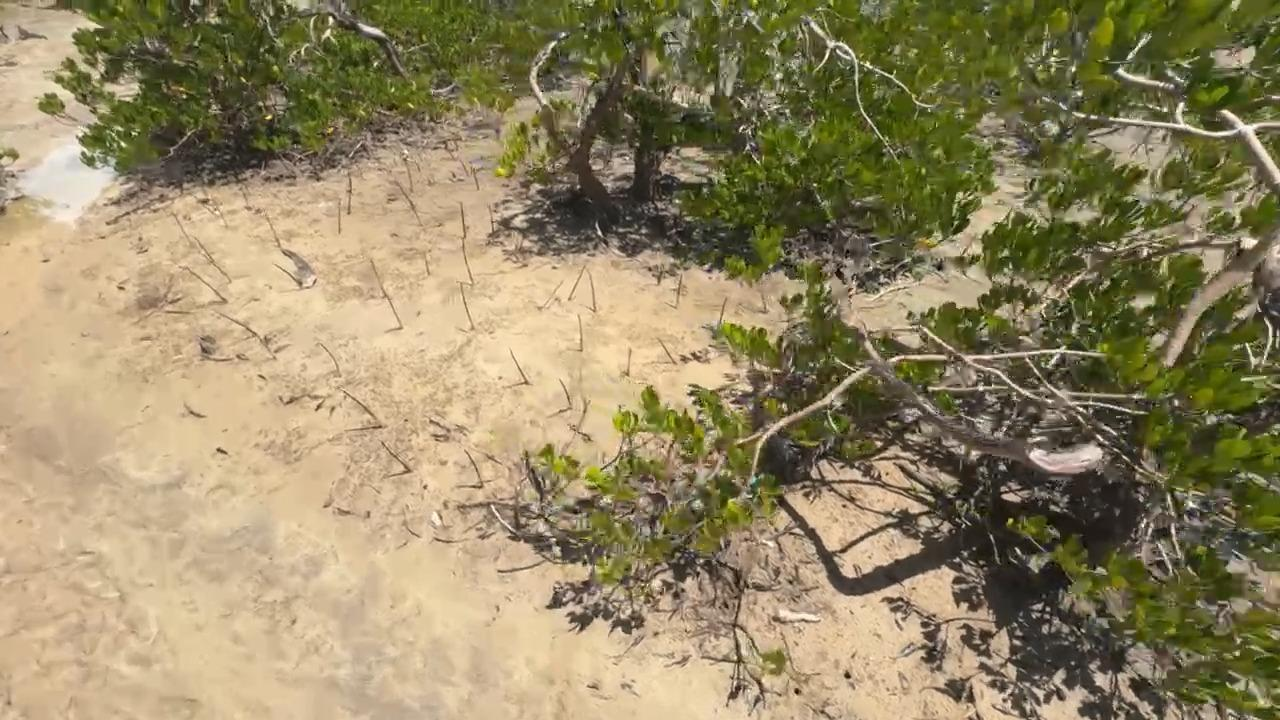Tree: (340, 388, 389, 428), (188, 269, 228, 302), (380, 441, 413, 472), (215, 311, 256, 335), (381, 288, 403, 325), (509, 348, 531, 384), (203, 256, 232, 283), (464, 448, 484, 487), (318, 343, 341, 374), (567, 264, 586, 301), (253, 333, 277, 359), (193, 236, 214, 262), (657, 337, 677, 364), (267, 217, 281, 246), (587, 270, 596, 312), (559, 378, 571, 406), (676, 273, 685, 308), (460, 202, 467, 238), (719, 296, 728, 324), (577, 314, 583, 352), (461, 282, 468, 313), (173, 214, 185, 232), (337, 195, 342, 235), (461, 236, 468, 264), (396, 182, 408, 198), (581, 394, 590, 414), (627, 347, 632, 377), (473, 167, 479, 191), (346, 172, 352, 192), (347, 190, 351, 215), (370, 257, 376, 273), (424, 259, 430, 274)
